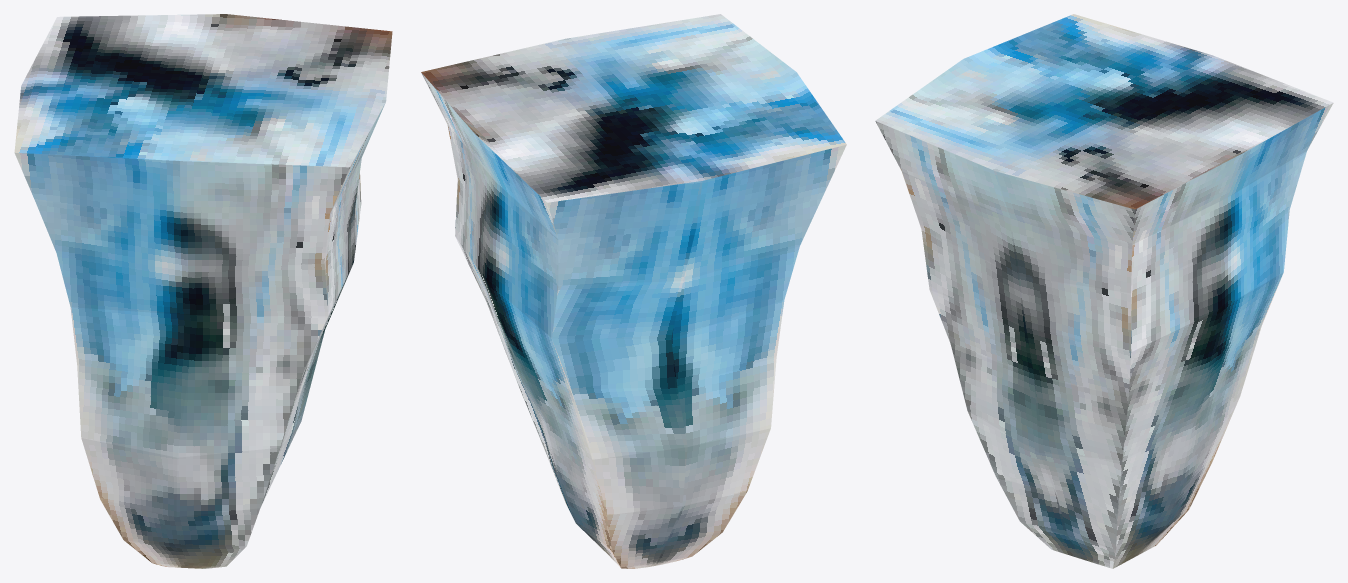
The picture shows the model from 3 angles, left to right: view 1: azimuth 30°, elevation 25°; view 2: azimuth 150°, elevation 25°; view 3: azimuth 270°, elevation 25°; orthographic projection. The views are drawn at different scales.
Visible parts, largest first — view 1: SPLICE_1; view 2: SPLICE_1; view 3: SPLICE_1.
Boxes of the visible parts, box(x1,y1,x2,y2) form: SPLICE_1: box(14, 14, 392, 568); SPLICE_1: box(421, 14, 846, 568); SPLICE_1: box(875, 14, 1333, 568).
Size of the model in its own units: 1.03 by 1.14 by 1.03.
1 material, 1 textured.
